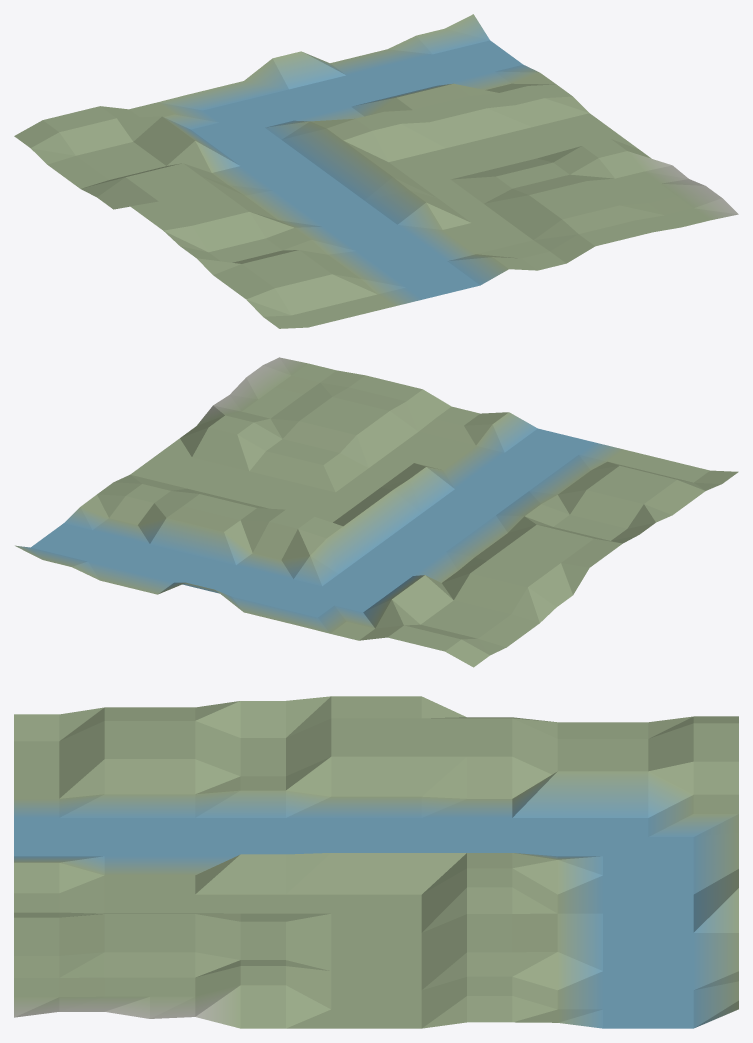
3 renders of one model, top to bottom at view 1: azimuth 30°, elevation 25°; view 2: azimuth 150°, elevation 25°; view 3: azimuth 270°, elevation 25°, orthographic. The views are drawn at different scales.
Size of the model in its own units: 32 by 1.34 by 32.
